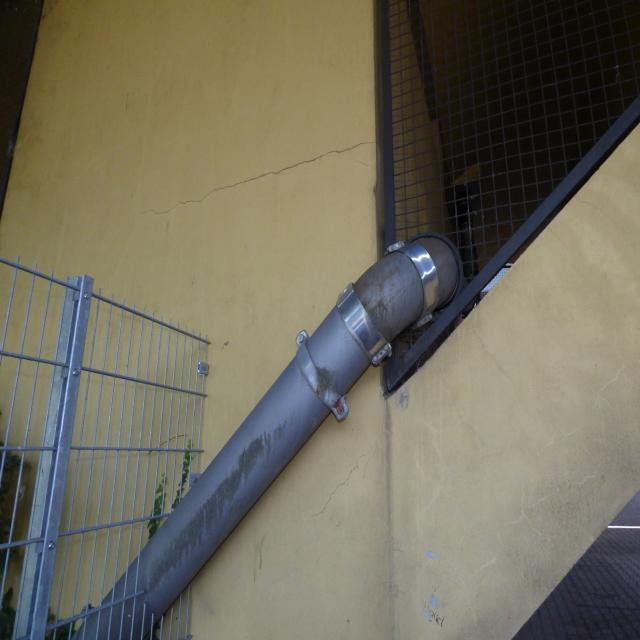corrosion: (314, 383, 334, 397), (332, 398, 345, 416)
